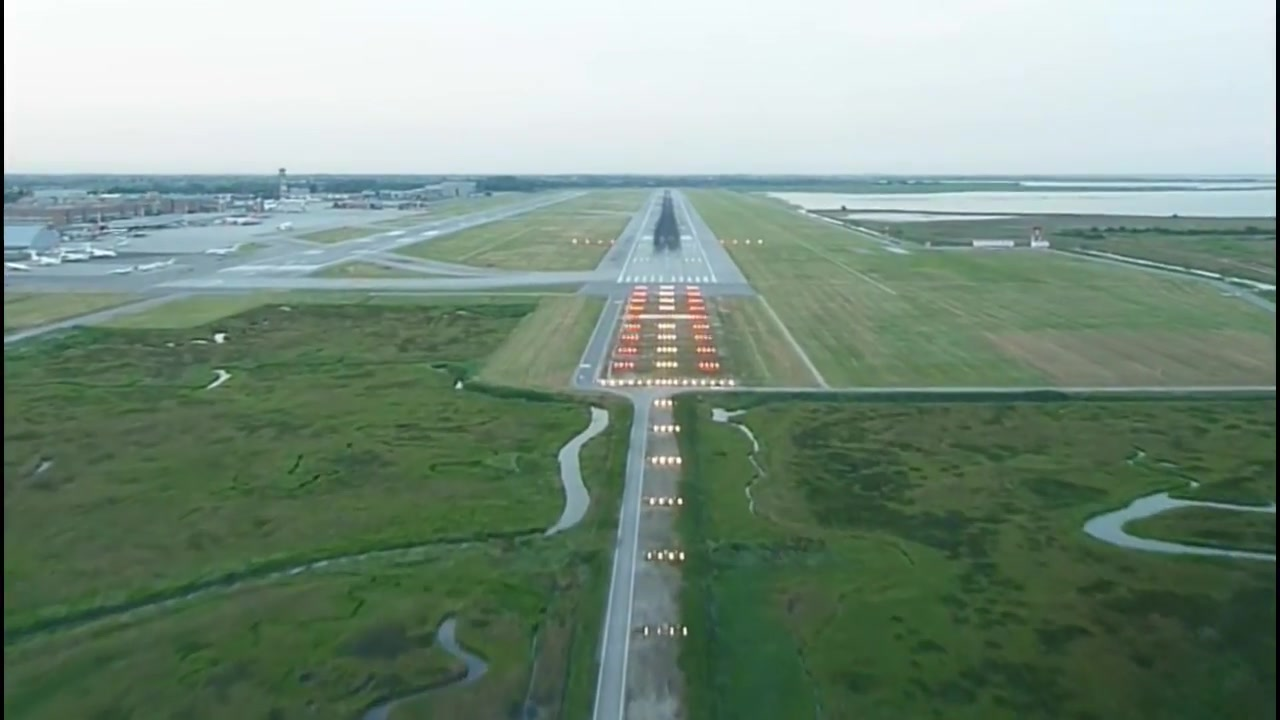entrance: (622, 275, 715, 282)
runway: (617, 184, 719, 283)
